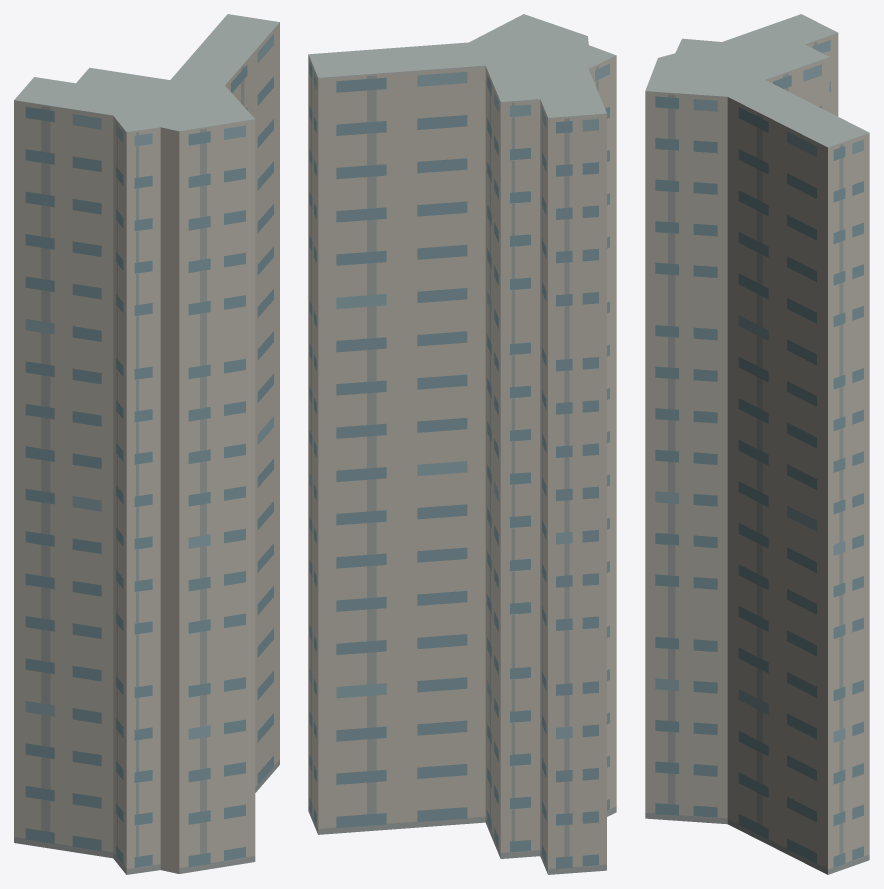
File: residential-ff2d1997-970d-4d18-94f4-8c2a4edaa243.glb
The picture shows the model from 3 angles, left to right: view 1: azimuth 30°, elevation 25°; view 2: azimuth 150°, elevation 25°; view 3: azimuth 270°, elevation 25°; orthographic projection. The views are drawn at different scales.
Visible parts, largest first — view 1: residential-ff2d1997-970d-4d18-94f4-8c2a4edaa243.tmp; view 2: residential-ff2d1997-970d-4d18-94f4-8c2a4edaa243.tmp; view 3: residential-ff2d1997-970d-4d18-94f4-8c2a4edaa243.tmp.
Boxes of the visible parts, left/top/right/bottom form: residential-ff2d1997-970d-4d18-94f4-8c2a4edaa243.tmp: left=14, top=14, right=279, bottom=874; residential-ff2d1997-970d-4d18-94f4-8c2a4edaa243.tmp: left=308, top=14, right=616, bottom=874; residential-ff2d1997-970d-4d18-94f4-8c2a4edaa243.tmp: left=645, top=14, right=869, bottom=874.
Size of the model in its own units: 39.76 by 101 by 28.26.
